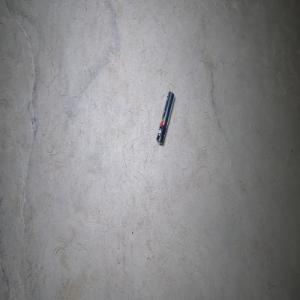Battery: (156, 90, 175, 145)
